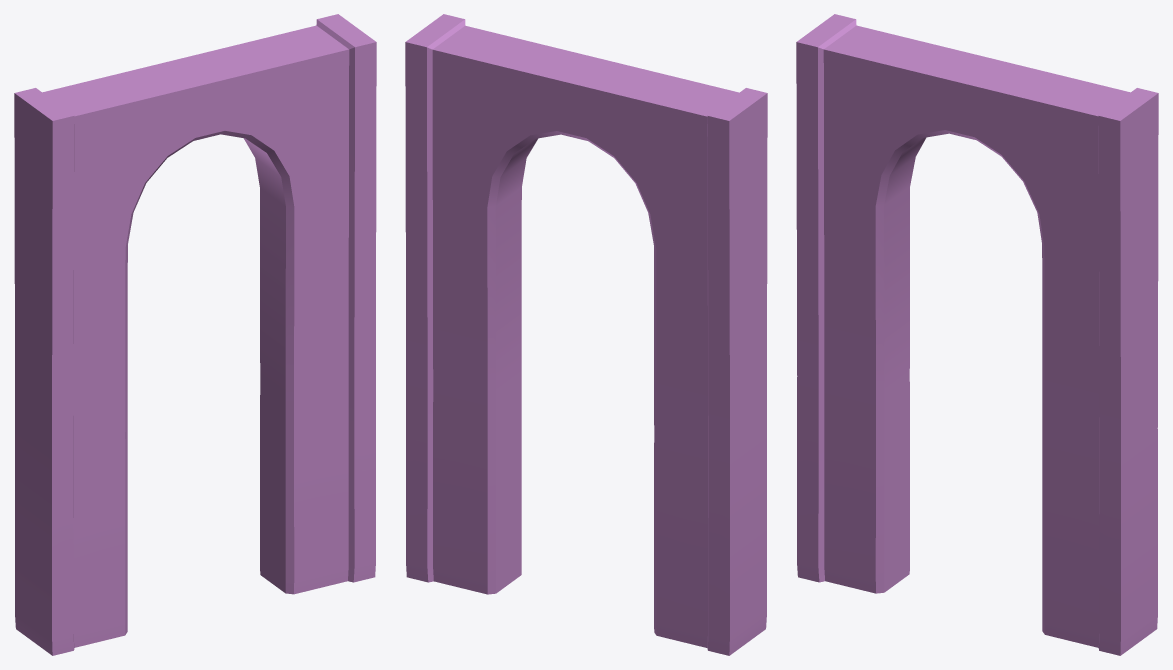
File: Arc_A.fbx
The picture shows the model from 3 angles, left to right: view 1: azimuth 30°, elevation 25°; view 2: azimuth 150°, elevation 25°; view 3: azimuth 330°, elevation 25°; orthographic projection.
Visible parts, largest first — view 1: Arc_A; view 2: Arc_A; view 3: Arc_A.
Boxes of the visible parts, left/top/right/bottom form: Arc_A: left=14, top=14, right=376, bottom=655; Arc_A: left=405, top=14, right=767, bottom=655; Arc_A: left=796, top=14, right=1158, bottom=655.
Size of the model in its own units: 899 by 1421 by 184.
